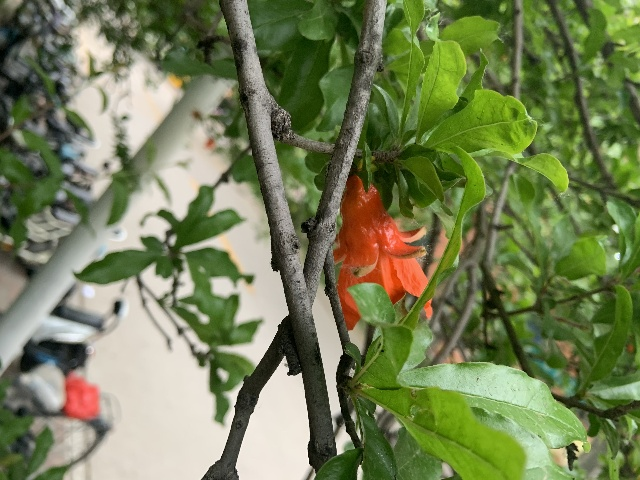flower: (332, 173, 432, 330)
